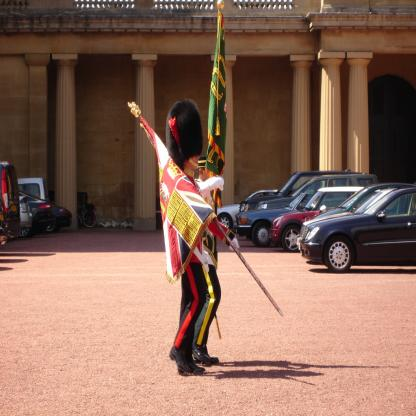Car: (217, 169, 416, 275), (1, 161, 74, 249)
